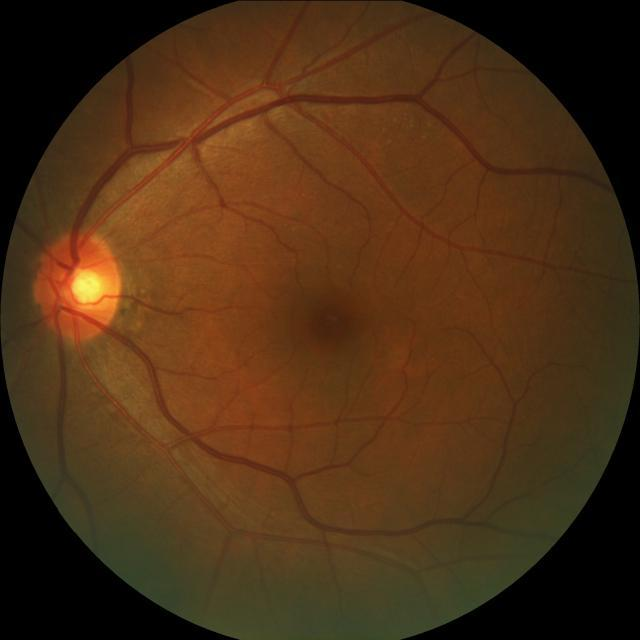OC: (71, 269, 105, 303)
OD: (36, 229, 124, 339)
